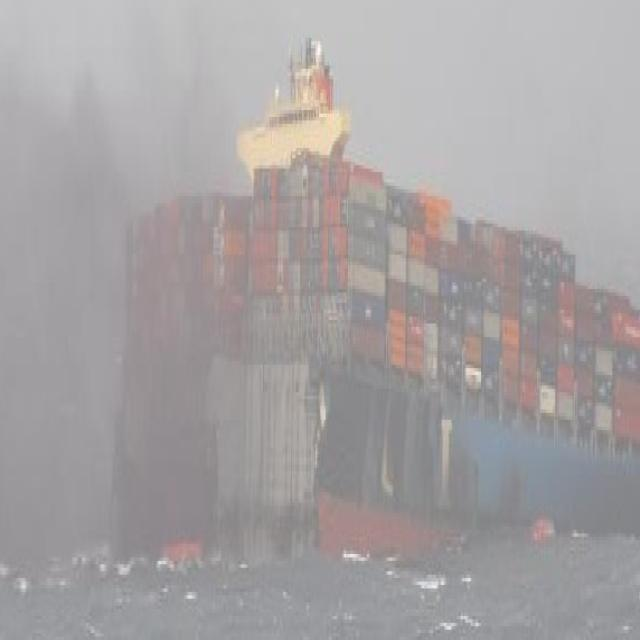cargoship: (104, 24, 640, 544)
